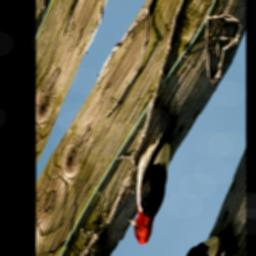Woodpecker: (110, 85, 197, 253)
